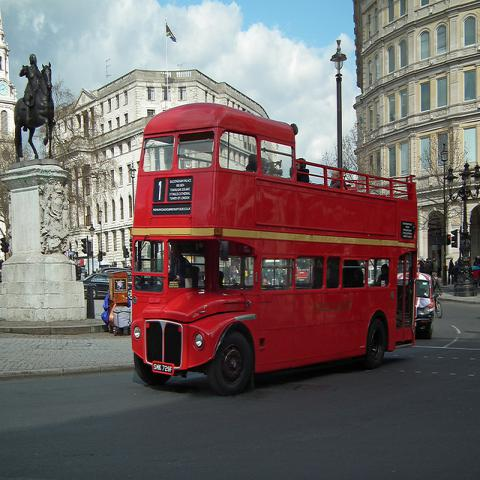bus: (130, 103, 421, 397)
car: (416, 273, 436, 339), (84, 273, 108, 298), (100, 268, 124, 274)
